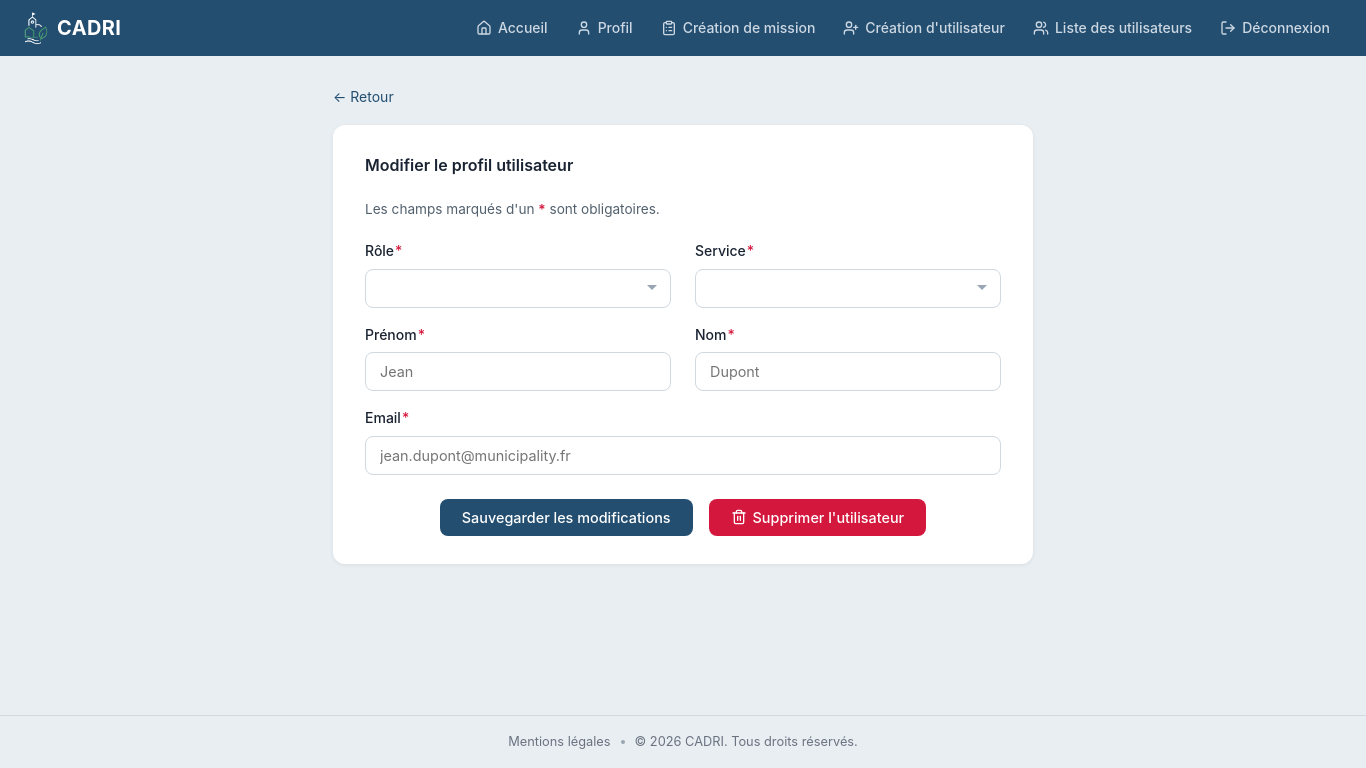
it: UserFormPage — suppression › affiche le message de l'API sans quitter la page
Expected: the field labelled "Nom*" is shown, top-left (695, 352), bottom-right (1001, 391)
Click the button "Supprimer l'utilisateur": (817, 517) top-left (709, 498), bottom-right (926, 536)
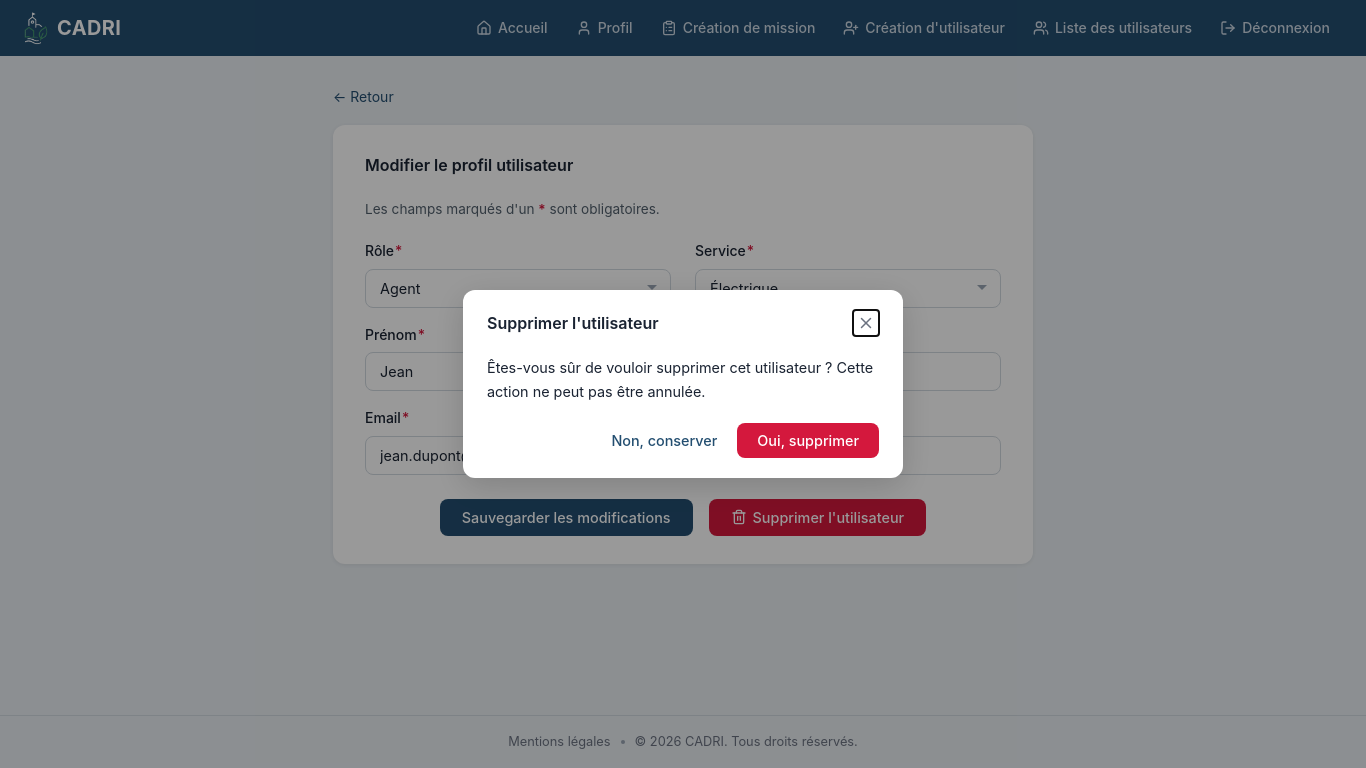
Click the button "Oui, supprimer": (808, 440) top-left (737, 422), bottom-right (879, 458)
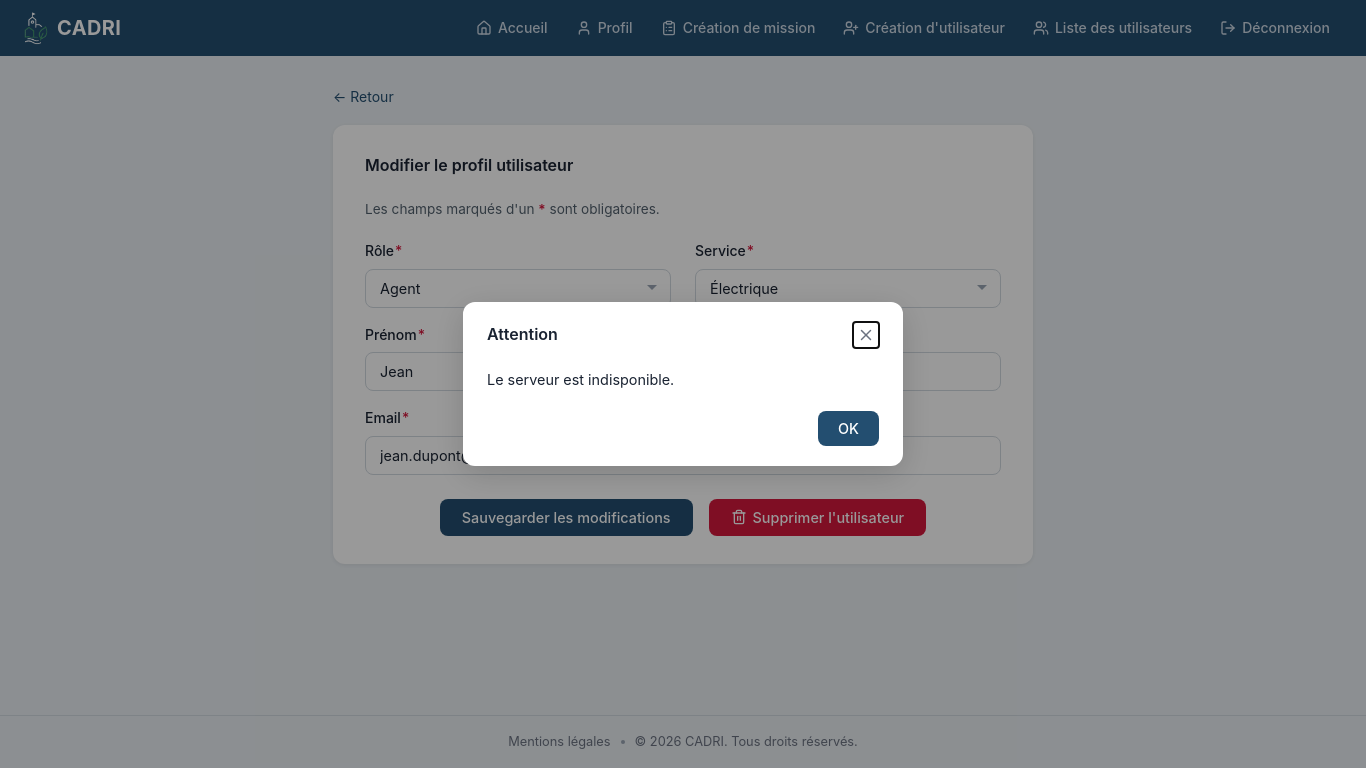
Expected: the heading "Modifier le profil utilisateur" is shown, top-left (365, 155), bottom-right (573, 175)
Expected: the dialog shows "Le serveur est indisponible.", top-left (487, 371), bottom-right (674, 388)
Expected: the text "Êtes-vous sûr de vouloir supprimer cet utilisateur" is gone
